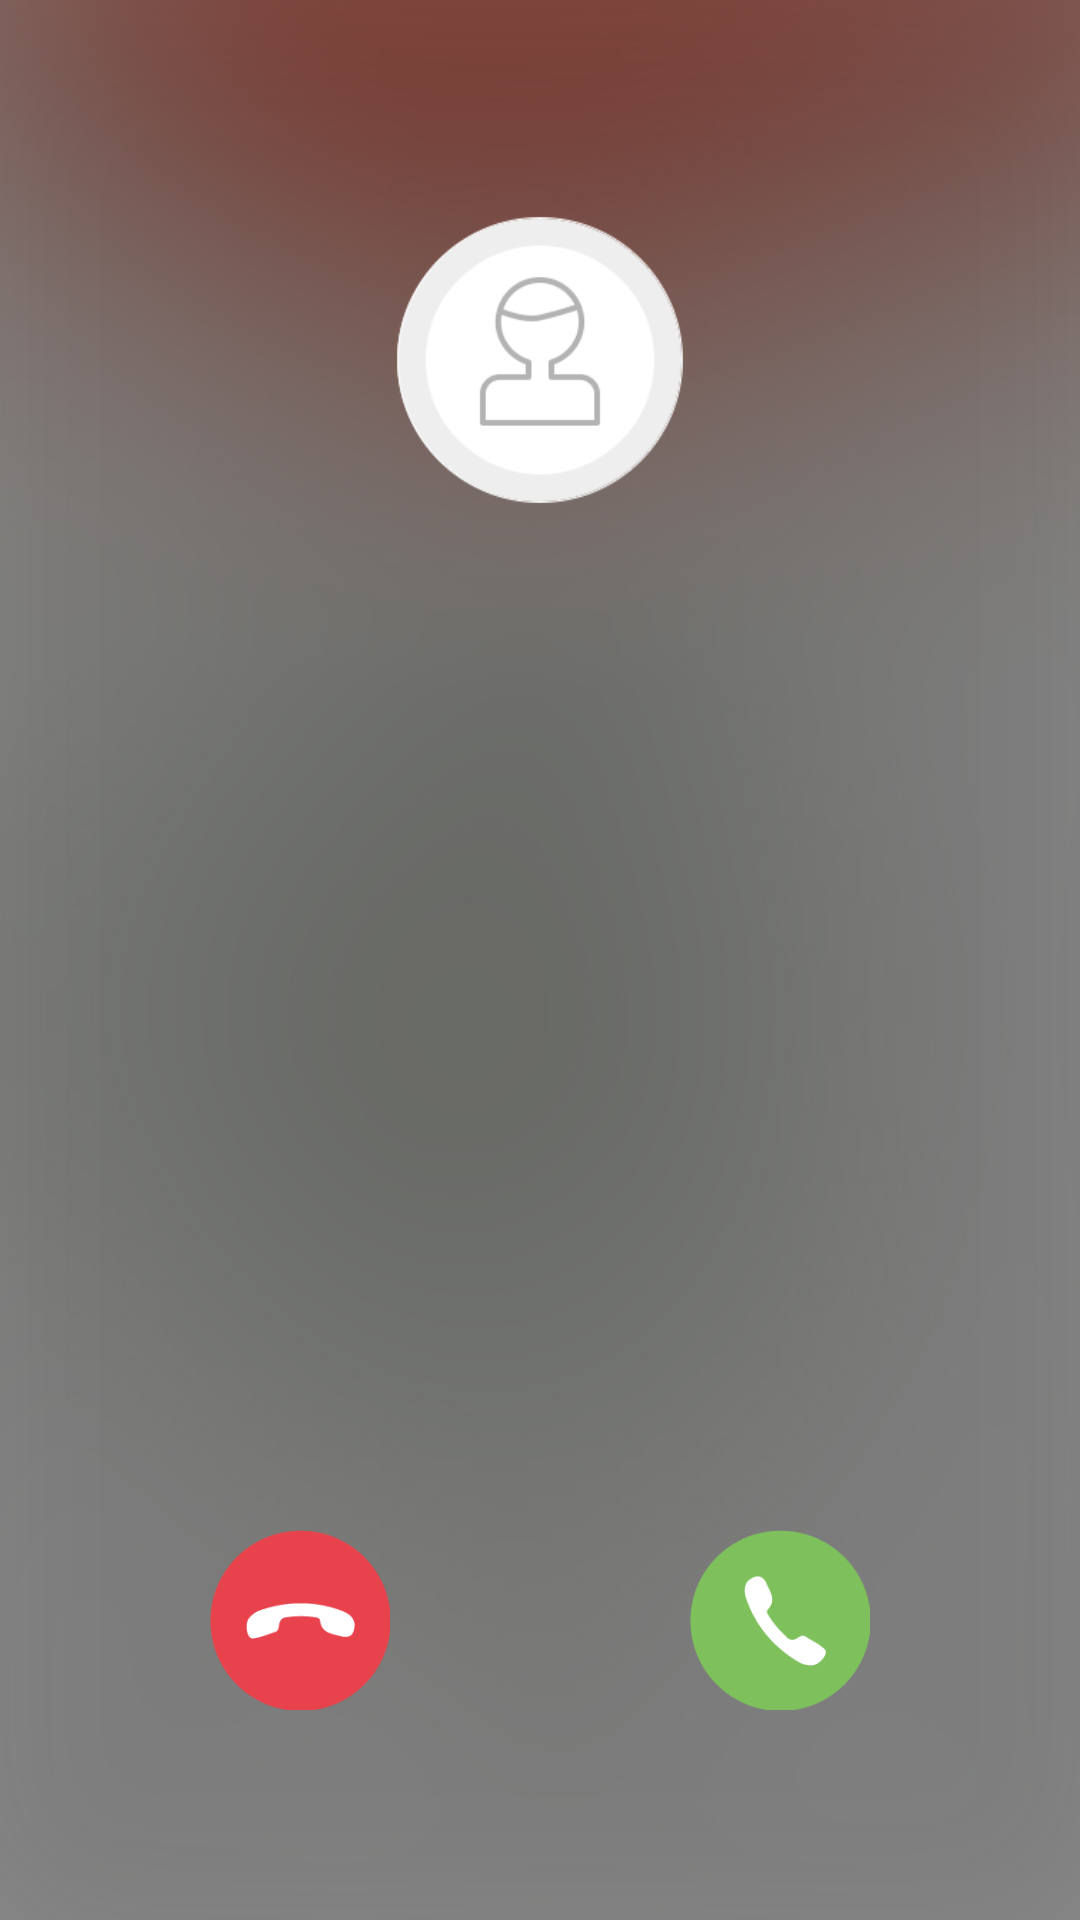

Screen size 1080×1920. Icon name, then its box in pixels as (x1, y1, x2, y2):
chat photo: (390, 210, 690, 503)
ring answer: (690, 1531, 870, 1710)
ring handup: (210, 1530, 390, 1710)
